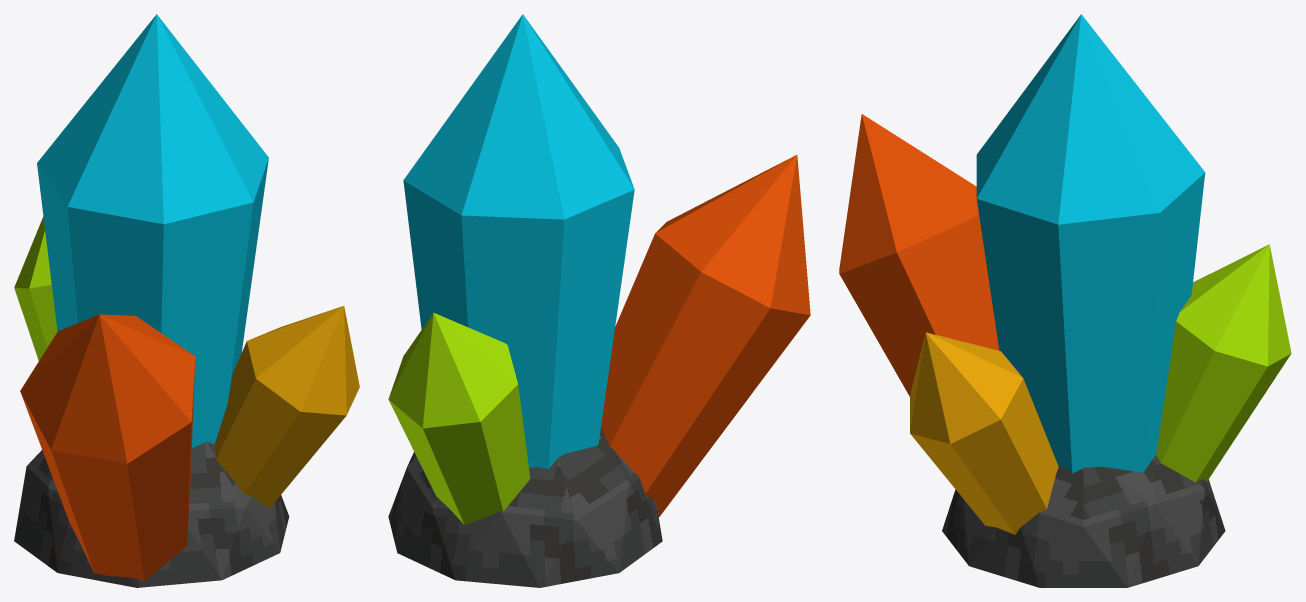
File: Crystals.glb
The picture shows the model from 3 angles, left to right: view 1: azimuth 30°, elevation 25°; view 2: azimuth 150°, elevation 25°; view 3: azimuth 270°, elevation 25°; orthographic projection.
Visible parts, largest first — view 1: Crystal.003, Crystal.001, Crystal.002, Icosphere, Crystal; view 2: Crystal.003, Crystal.001, Icosphere, Crystal; view 3: Crystal.003, Crystal.001, Icosphere, Crystal, Crystal.002.
Part boxes in pixels (left/top/right/bottom): Crystal.003: left=37, top=14, right=268, bottom=447; Crystal.001: left=20, top=314, right=195, bottom=581; Crystal.002: left=214, top=306, right=359, bottom=508; Icosphere: left=14, top=441, right=289, bottom=587; Crystal: left=14, top=217, right=57, bottom=360; Crystal.003: left=403, top=14, right=634, bottom=469; Crystal.001: left=601, top=155, right=810, bottom=516; Icosphere: left=388, top=427, right=662, bottom=587; Crystal: left=388, top=312, right=530, bottom=524; Crystal.003: left=976, top=14, right=1205, bottom=473; Crystal.001: left=839, top=114, right=999, bottom=396; Icosphere: left=942, top=455, right=1225, bottom=587; Crystal: left=1156, top=244, right=1291, bottom=482; Crystal.002: left=910, top=332, right=1058, bottom=534.
Bounding box in the file's own units: 4.7 × 6.89 × 5.44.
5 materials, 1 textured.
